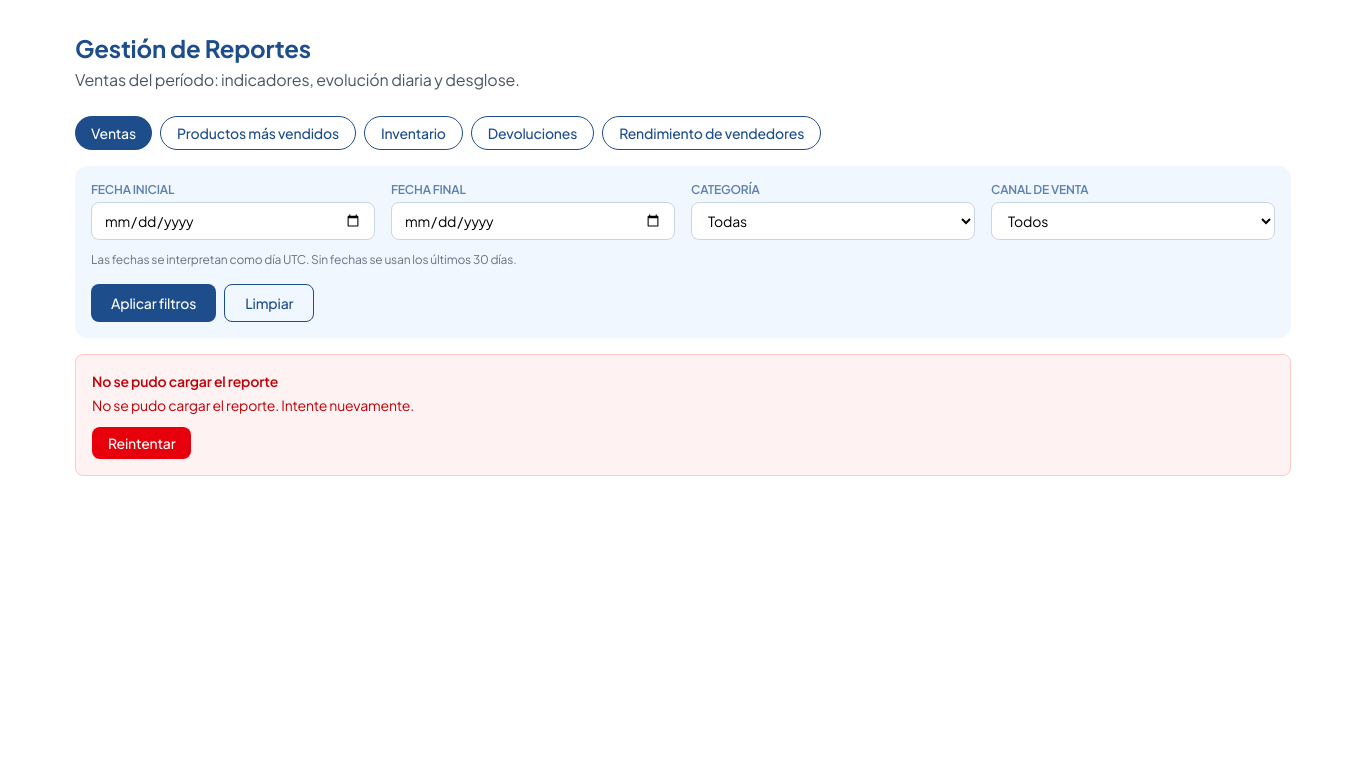
Test case: ReportesComponent › exportación PDF / Excel › los botones solo existen con un reporte mostrado (datos o sin datos), no cargando ni con error
The image size is (1366, 768).
Click the button "Reintentar".
click(142, 443)  # box [92,427,191,459]
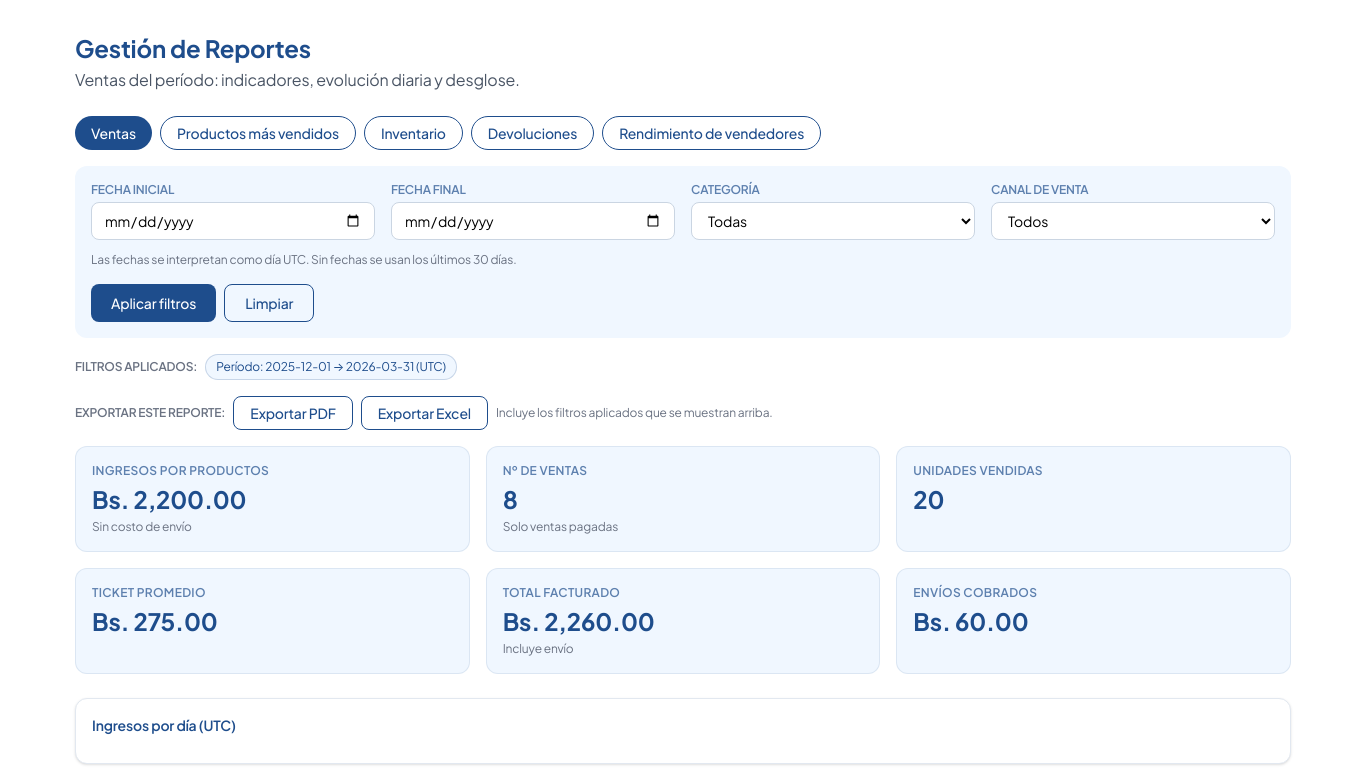
Result: the button with test id "btn-exportar-pdf" reads "Exportar PDF" at [233,396,353,430]
Result: the button "Exportar Excel" is shown at [361,396,488,430]
